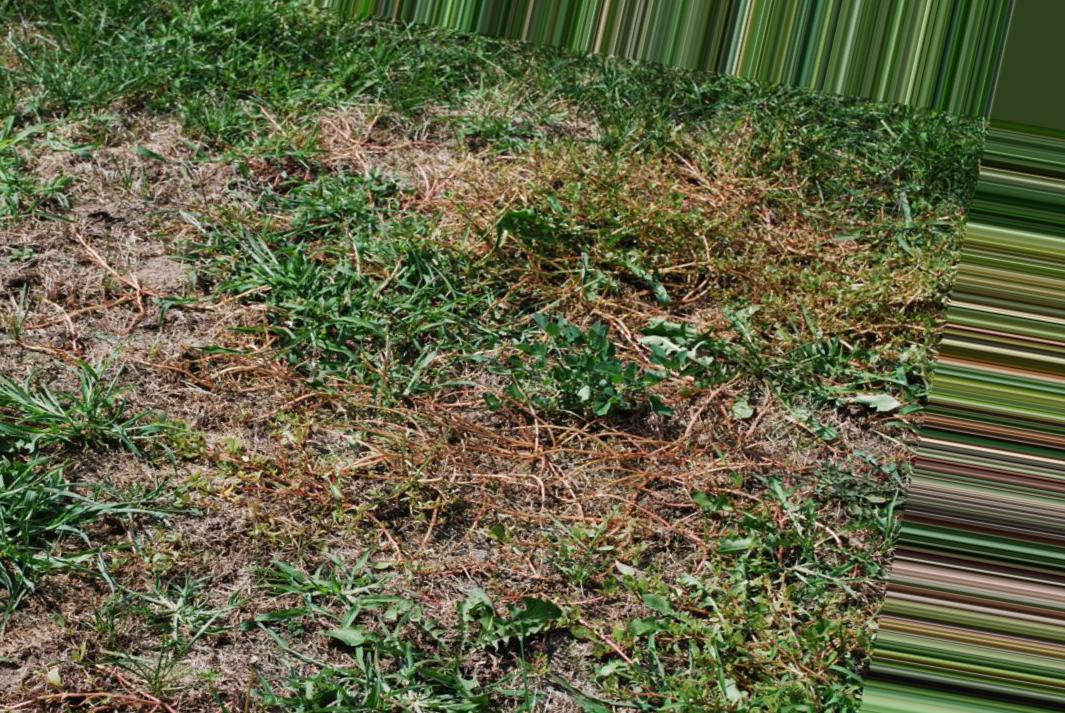patch: (187, 374, 346, 558), (85, 160, 213, 313), (377, 411, 507, 519), (697, 389, 824, 476), (601, 431, 713, 519)
